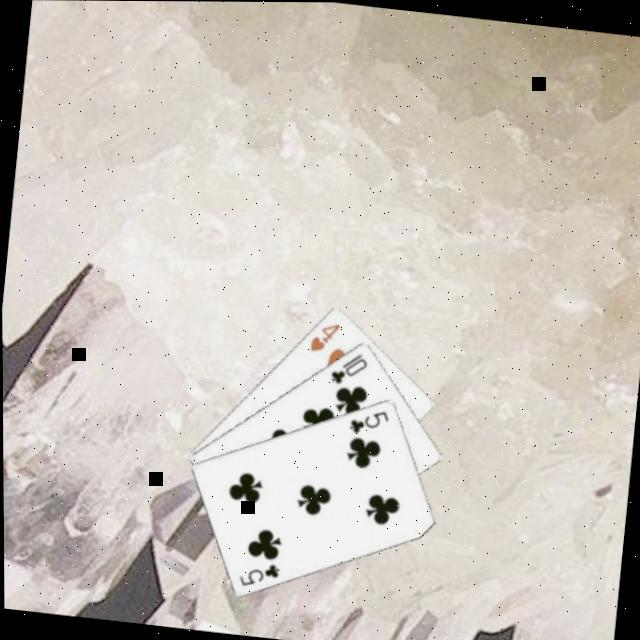10C: (326, 348, 372, 392)
4H: (306, 318, 345, 358)
5C: (235, 557, 284, 593), (346, 405, 393, 440)
